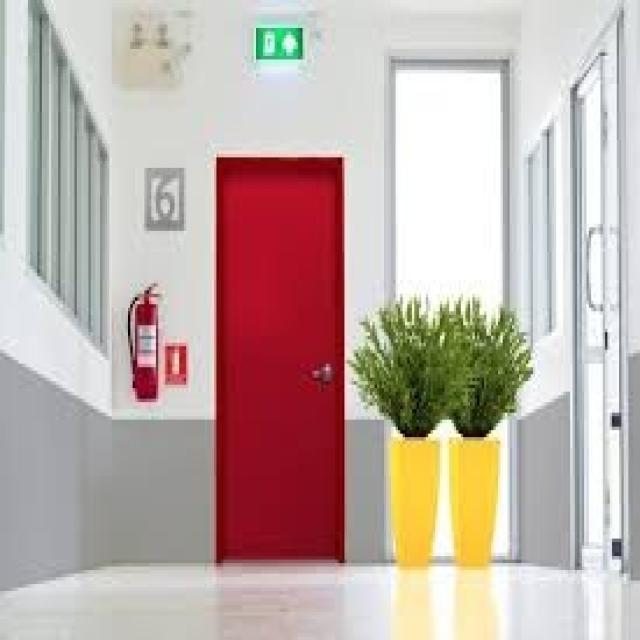door: (215, 154, 346, 563)
